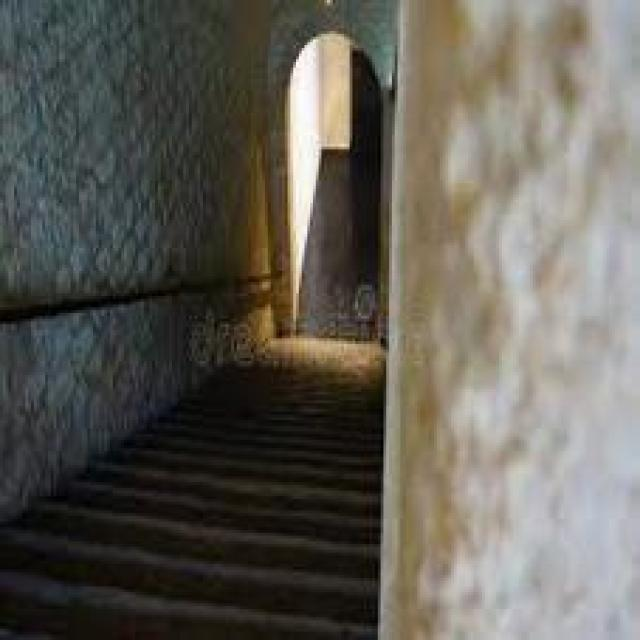downstair: (27, 452, 357, 624)
